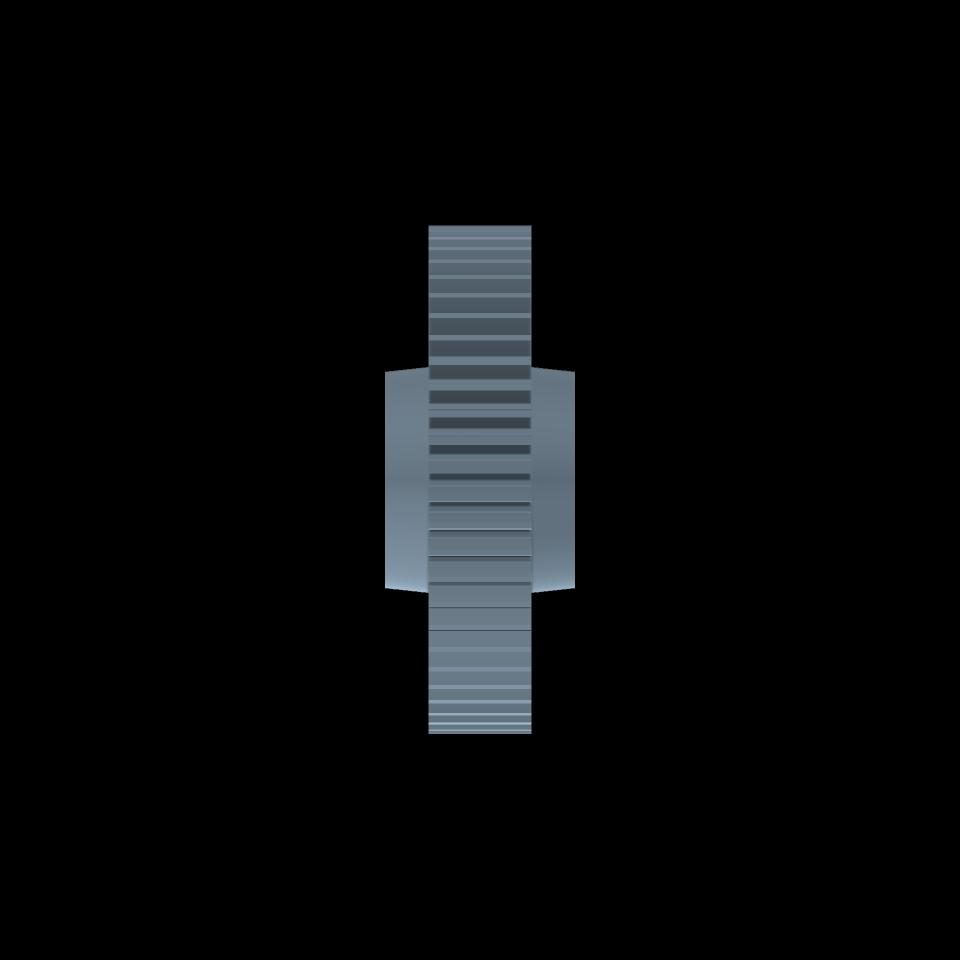Straight: (429, 223, 531, 733)
